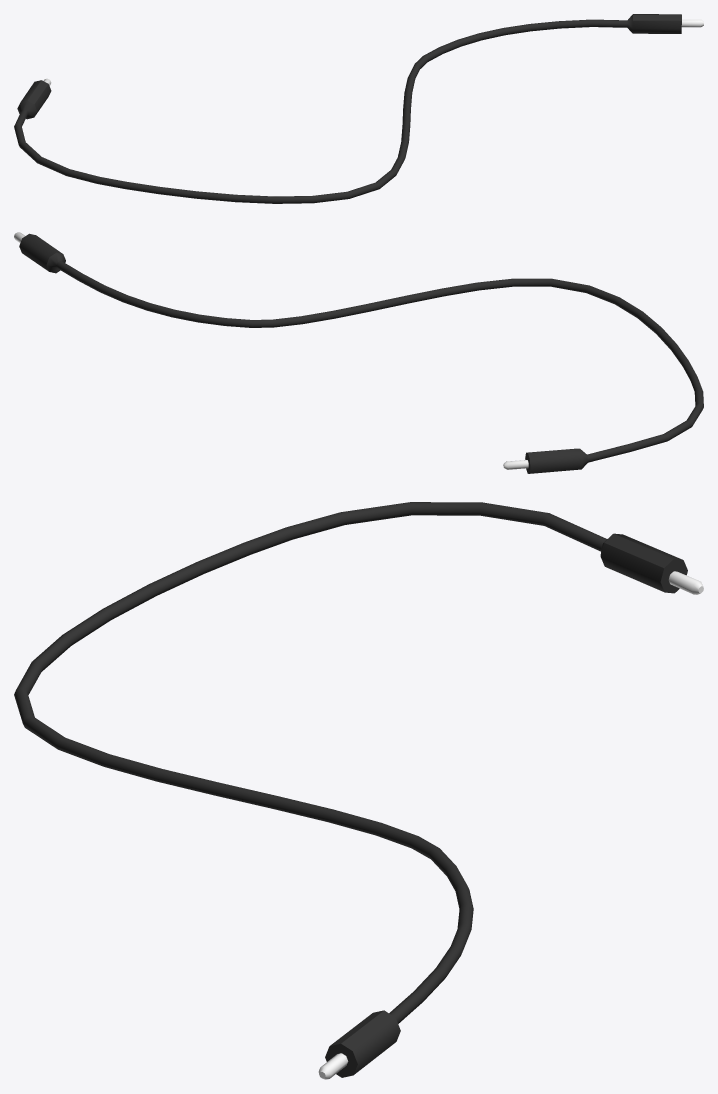
Rendered from ElectroWires02_2.FBX.
3 views of the same model, one above another, from view 1: azimuth 30°, elevation 25°; view 2: azimuth 150°, elevation 25°; view 3: azimuth 270°, elevation 25° (orthographic). The views are drawn at different scales.
Parts seen in each view (by area): view 1: Wires02; view 2: Wires02; view 3: Wires02.
Part boxes in pixels (<box>): Wires02: <box>14,14,703,203</box>; Wires02: <box>14,232,703,473</box>; Wires02: <box>14,502,703,1079</box>.
Bounding box in the file's own units: 98.19 × 2.91 × 50.47.
